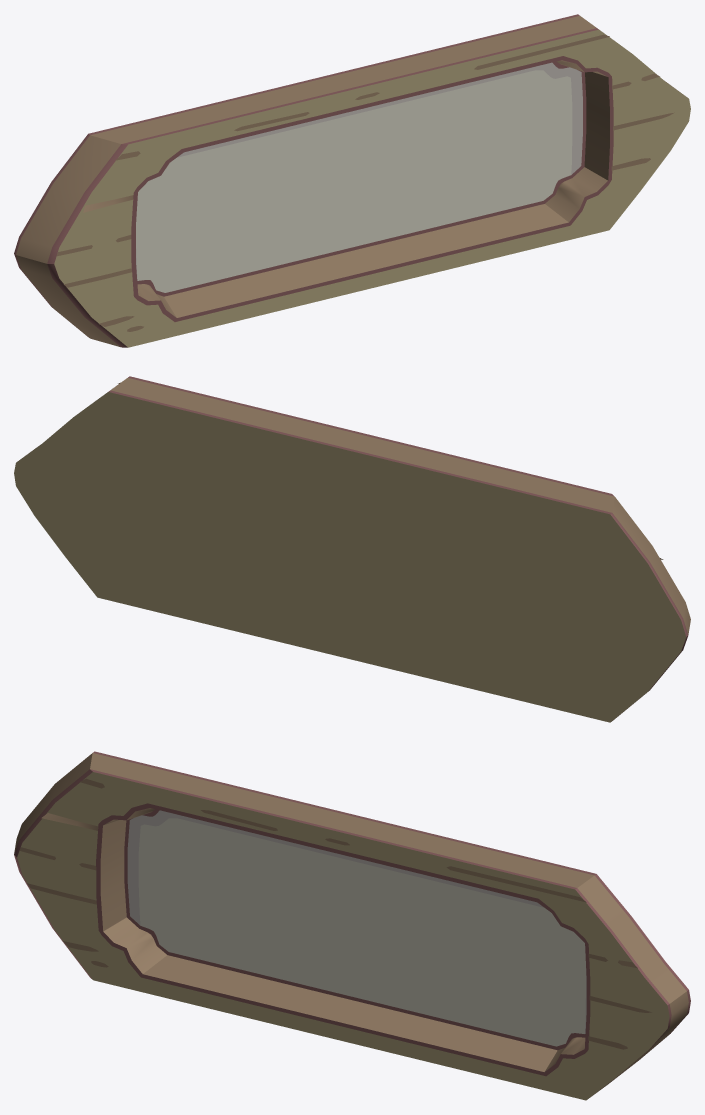
The model's file is Mesh_Adventure_RoadSign_Board_02_SM.fbx.
The picture shows the model from 3 angles, top to bottom: view 1: azimuth 30°, elevation 25°; view 2: azimuth 150°, elevation 25°; view 3: azimuth 330°, elevation 25°; orthographic projection. The views are drawn at different scales.
Visible parts, largest first — view 1: Mesh_Adventure_RoadSign_Board_02; view 2: Mesh_Adventure_RoadSign_Board_02; view 3: Mesh_Adventure_RoadSign_Board_02.
Boxes of the visible parts, x1=… form: Mesh_Adventure_RoadSign_Board_02: x1=14, y1=14, x2=690, y2=347; Mesh_Adventure_RoadSign_Board_02: x1=14, y1=376, x2=690, y2=722; Mesh_Adventure_RoadSign_Board_02: x1=14, y1=751, x2=690, y2=1100.
Size of the model in its own units: 99.94 by 29.59 by 6.24.
